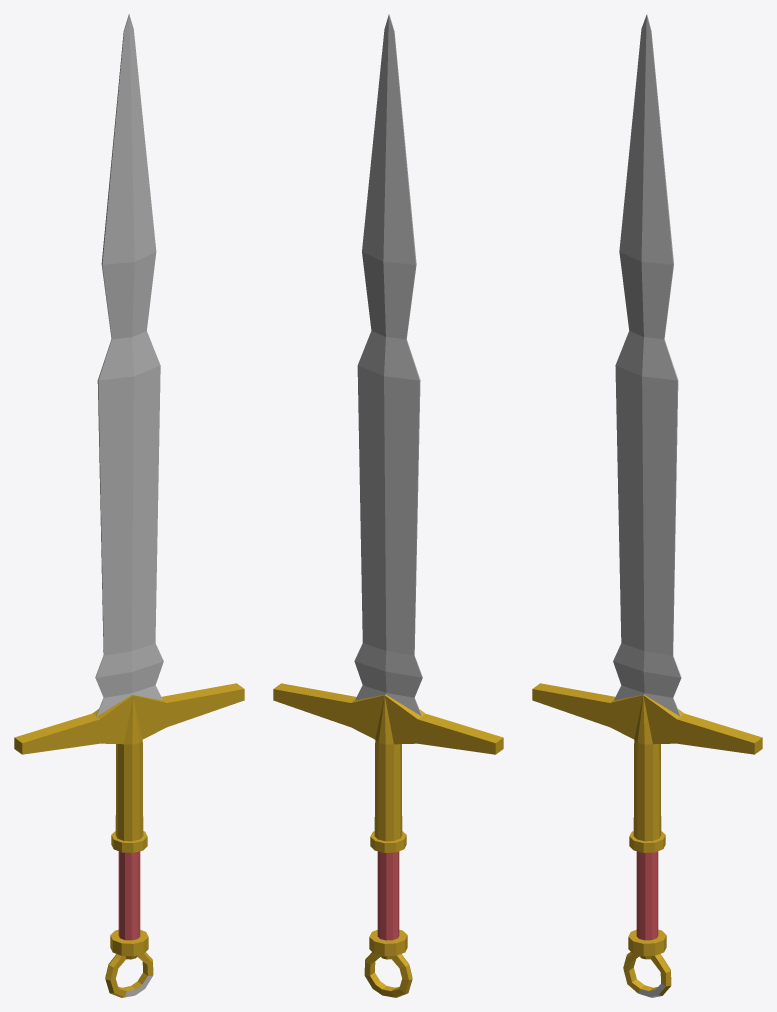
The model's file is newEspada_2_mano.fbx.
The picture shows the model from 3 angles, left to right: view 1: azimuth 30°, elevation 25°; view 2: azimuth 150°, elevation 25°; view 3: azimuth 330°, elevation 25°; orthographic projection.
Visible parts, largest first — view 1: espada_2_manos; view 2: espada_2_manos; view 3: espada_2_manos.
Boxes of the visible parts, box(x1,y1,x2,y2) form: espada_2_manos: box(14, 14, 244, 997); espada_2_manos: box(273, 14, 503, 997); espada_2_manos: box(532, 14, 762, 997).
Size of the model in its own units: 2.33 by 9.85 by 0.3324.
